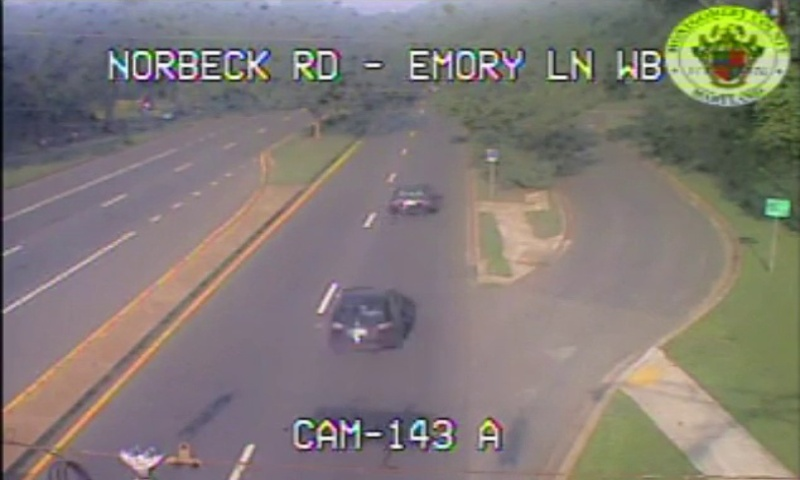car: (328, 287, 400, 347), (389, 186, 435, 214)
